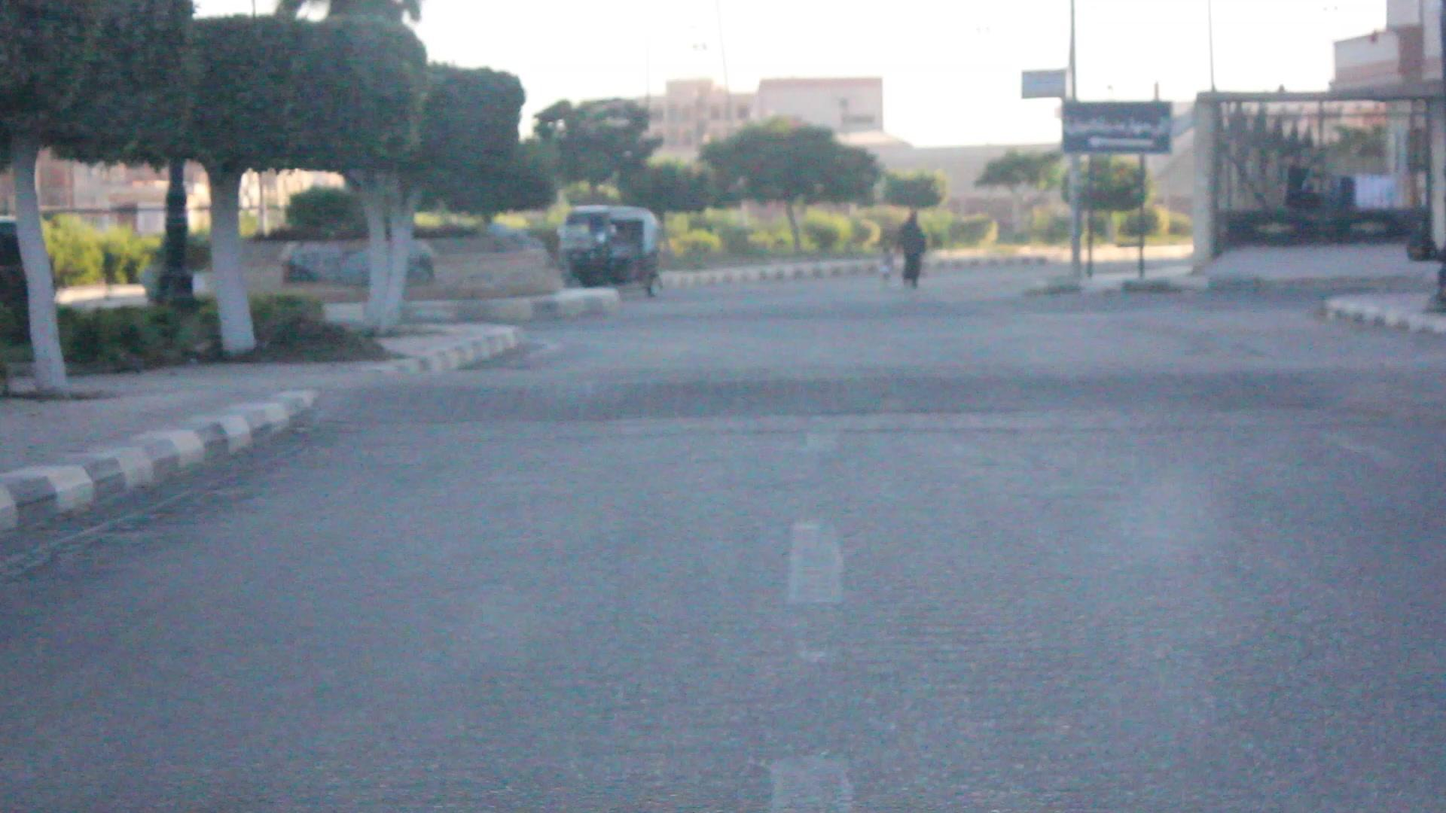Bump: (350, 344, 1446, 435)
